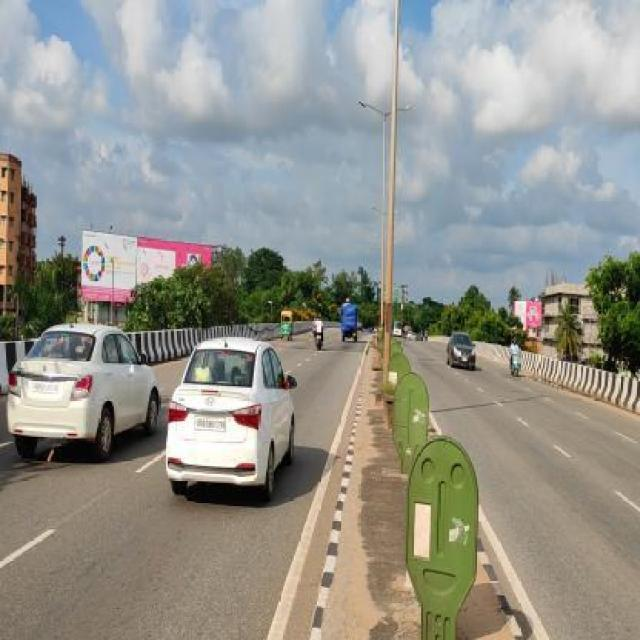vehicle: (6, 302, 157, 489), (170, 328, 298, 500), (438, 326, 486, 381)
